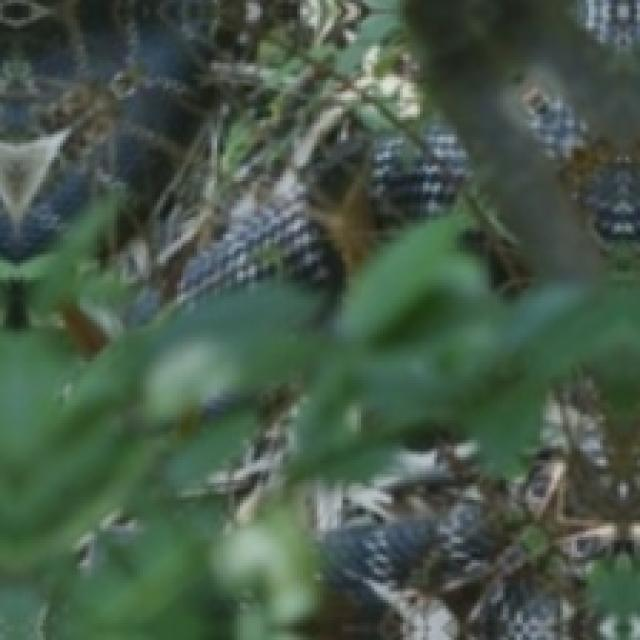king cobra: (114, 66, 526, 320)
